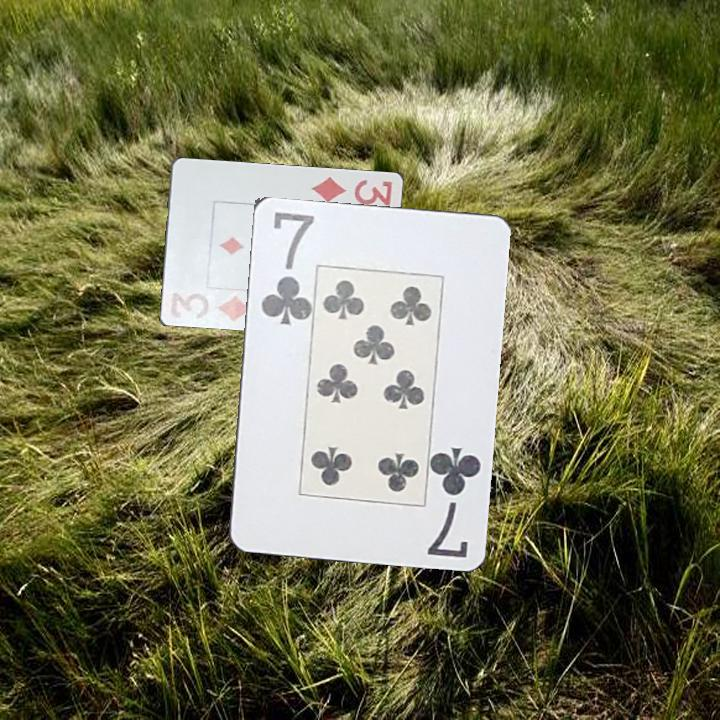3d: (165, 287, 255, 325), (308, 172, 395, 209)
7c: (423, 443, 483, 561), (257, 208, 315, 327)
